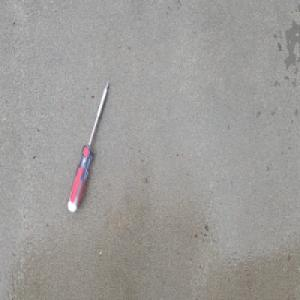Screwdriver: (66, 78, 110, 215)
